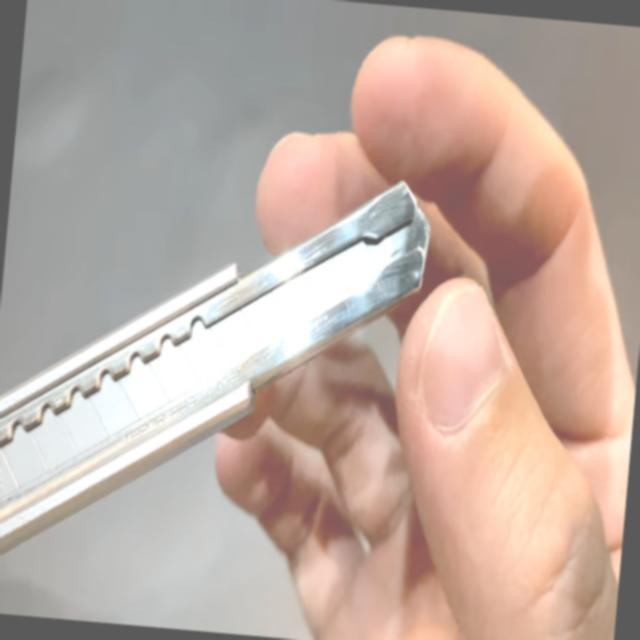cutter: (0, 0, 481, 617)
